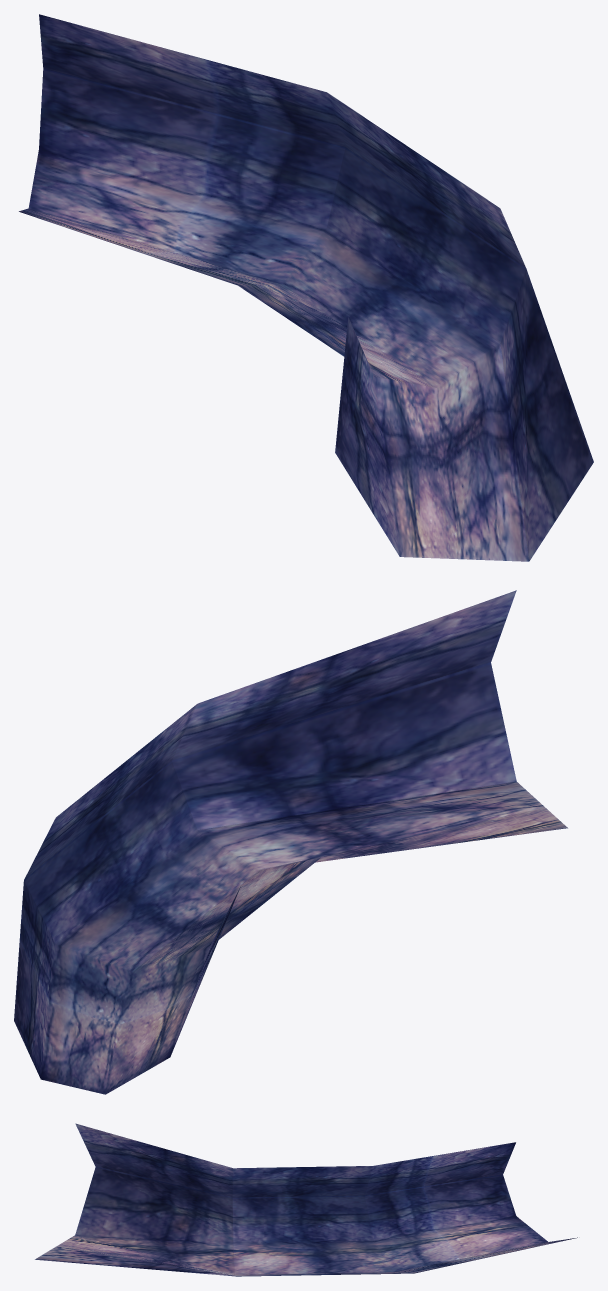
3 views of the same model, one above another, from view 1: azimuth 30°, elevation 25°; view 2: azimuth 150°, elevation 25°; view 3: azimuth 270°, elevation 25° (orthographic). The views are drawn at different scales.
Visible parts, largest first — view 1: 24; view 2: 24; view 3: 24.
Part boxes in pixels (box(x1,y1,x2,y2)): 24: box(19, 14, 593, 561); 24: box(14, 590, 567, 1094); 24: box(35, 1123, 577, 1276).
Bounding box in the file's own units: 6593 × 4089 × 18858.
Materials: 1 (1 with a texture image).
